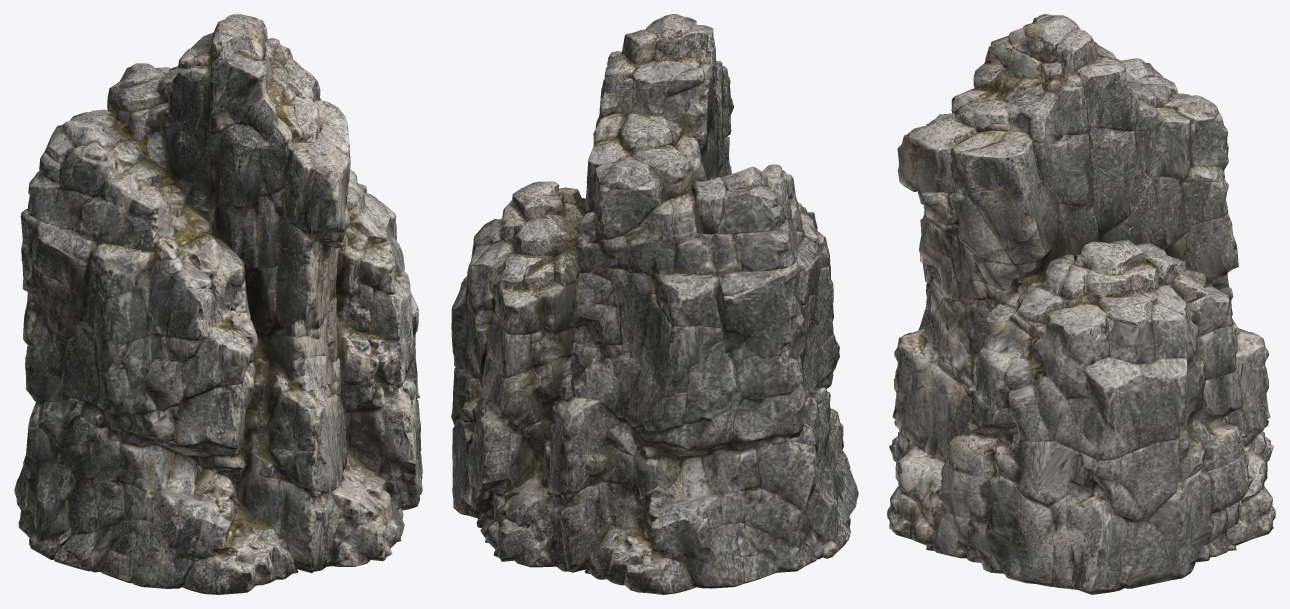
Rendered from CliffRock.fbx.
3 renders of one model, left to right at view 1: azimuth 30°, elevation 25°; view 2: azimuth 150°, elevation 25°; view 3: azimuth 270°, elevation 25°, orthographic. The views are drawn at different scales.
Parts seen in each view (by area): view 1: CliffRock_LOD0; view 2: CliffRock_LOD0; view 3: CliffRock_LOD0.
Part boxes in pixels (x1,y1,x2,y2): CliffRock_LOD0: [14, 14, 422, 594]; CliffRock_LOD0: [451, 14, 858, 594]; CliffRock_LOD0: [887, 14, 1275, 594].
Size of what is drawn, in the model's own units: 325 by 400 by 291.
